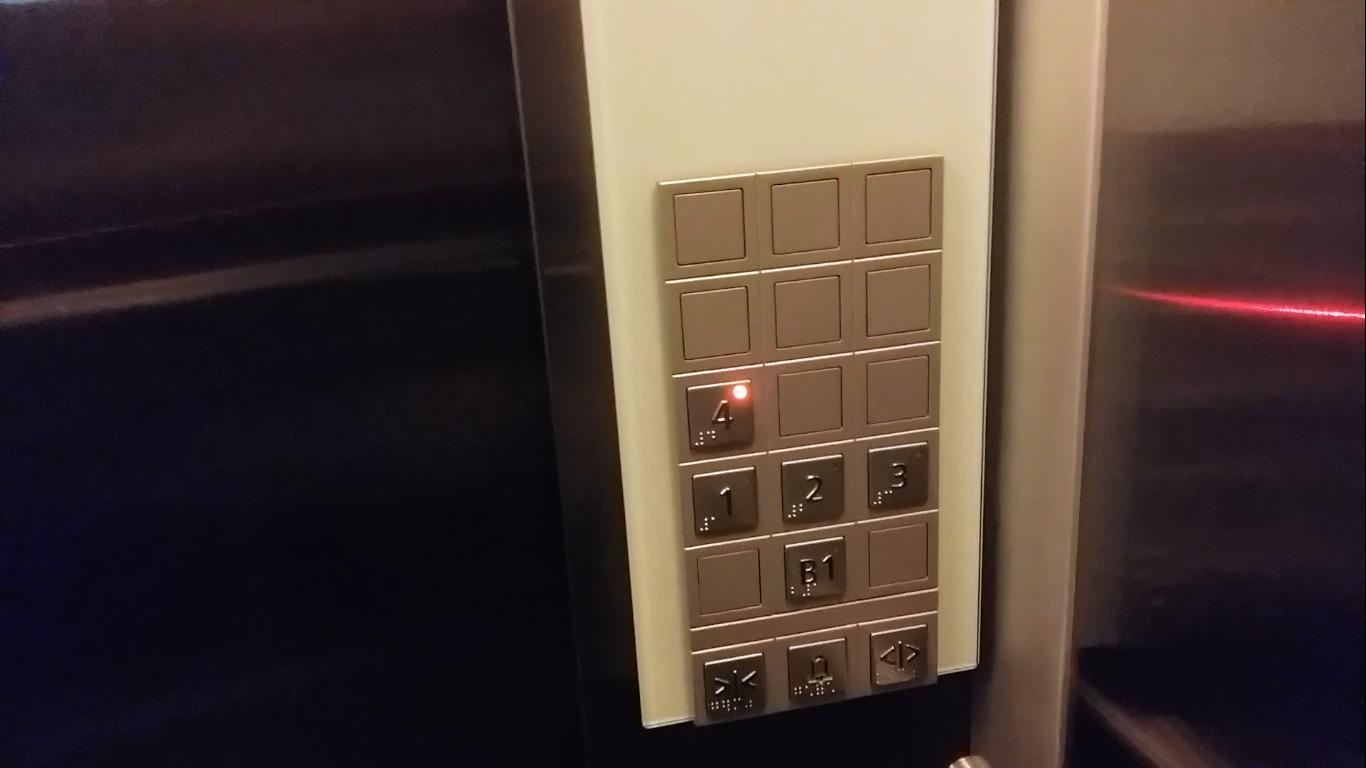1: (689, 462, 766, 540)
2: (776, 452, 847, 530)
3: (863, 443, 931, 518)
4: (682, 374, 754, 459)
B1: (780, 531, 847, 609)
alarm: (786, 635, 852, 712)
close: (702, 653, 770, 725)
open: (865, 624, 932, 696)
